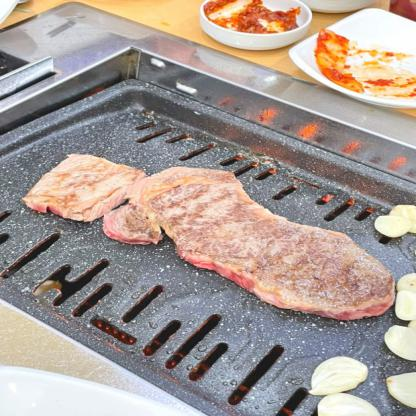Carne: (22, 148, 398, 320)
